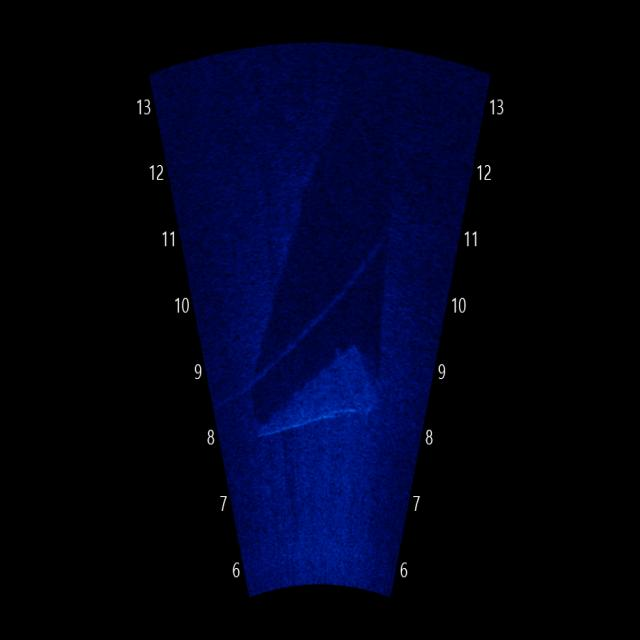triangle: (247, 334, 386, 468)
